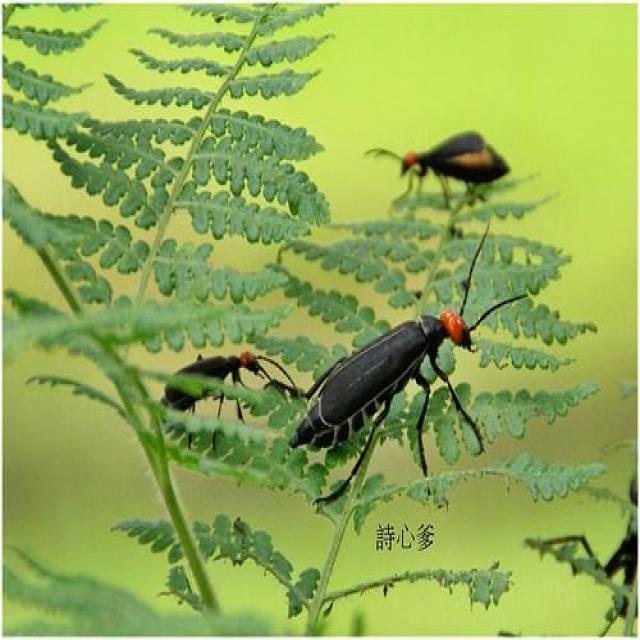BlisterBeetle-Adult-: (277, 267, 522, 472), (358, 118, 508, 218), (148, 338, 290, 438)
